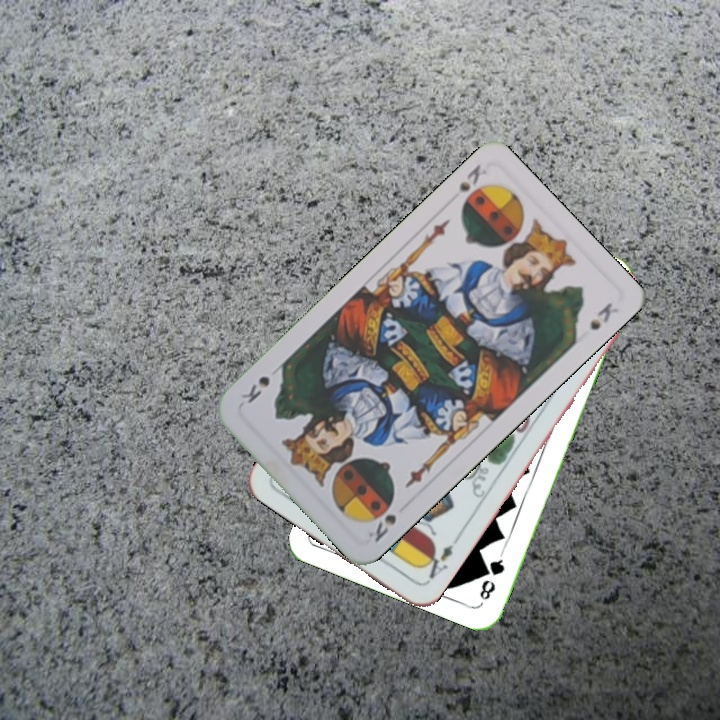EA: (418, 534, 462, 581)
G8: (475, 549, 508, 603)
SK: (364, 509, 399, 545), (455, 160, 490, 195)
